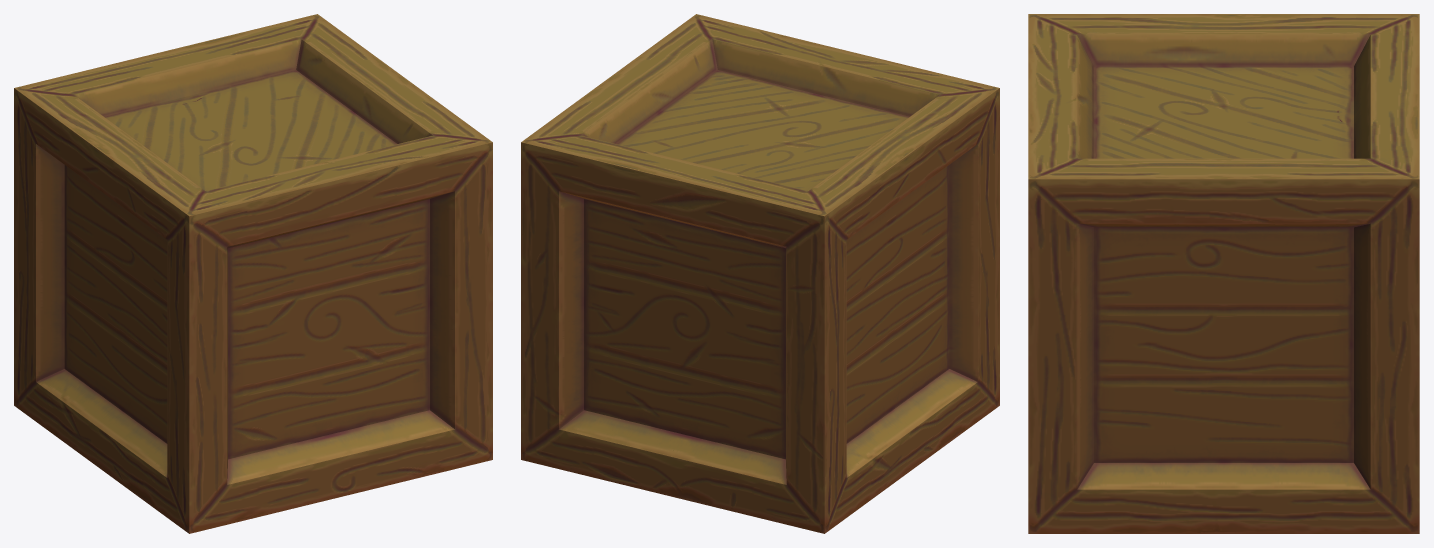
Rendered from crate.glb.
The picture shows the model from 3 angles, left to right: view 1: azimuth 30°, elevation 25°; view 2: azimuth 150°, elevation 25°; view 3: azimuth 270°, elevation 25°; orthographic projection. The views are drawn at different scales.
Parts seen in each view (by area): view 1: Stylized_Crate; view 2: Stylized_Crate; view 3: Stylized_Crate.
Part boxes in pixels (<box>): Stylized_Crate: <box>14,14,492,533</box>; Stylized_Crate: <box>521,14,999,533</box>; Stylized_Crate: <box>1028,14,1419,533</box>.
Bounding box in the file's own units: 0.6667 × 0.6667 × 0.6667.
1 material, 1 textured.
